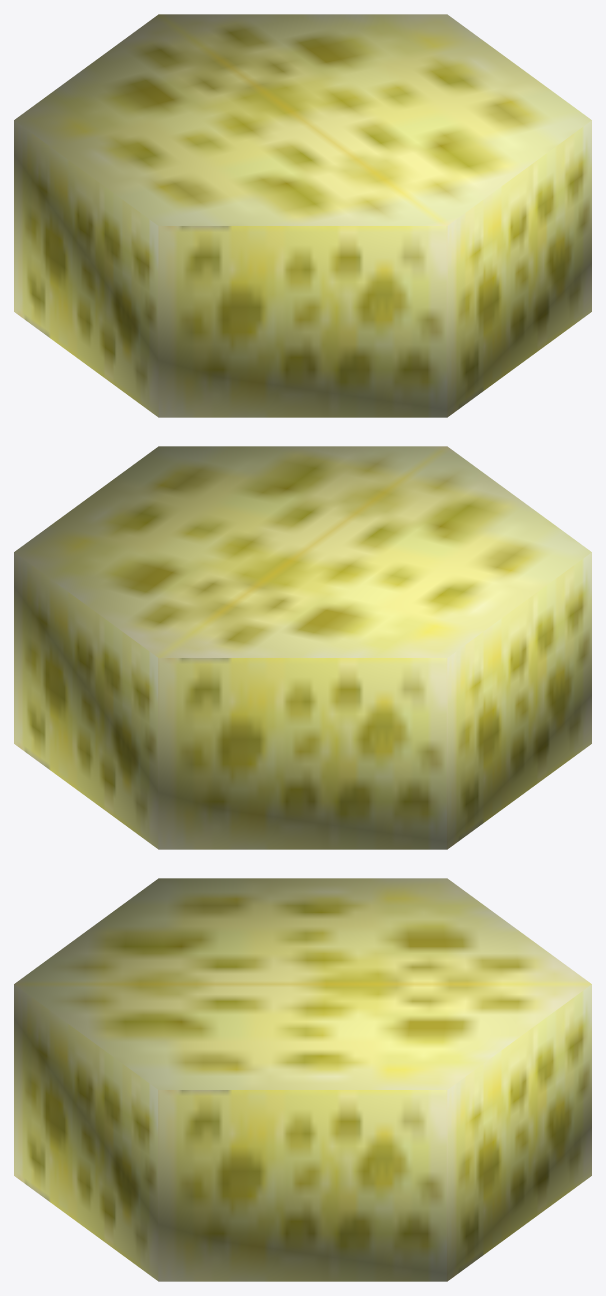
File: cheesewheelswiss01.obj
3 views of the same model, one above another, from view 1: azimuth 30°, elevation 25°; view 2: azimuth 150°, elevation 25°; view 3: azimuth 270°, elevation 25° (orthographic).
Parts seen in each view (by area): view 1: cheesewheelswiss01; view 2: cheesewheelswiss01; view 3: cheesewheelswiss01.
Boxes of the visible parts, x1,y1,x2,y2 form: cheesewheelswiss01: [14, 14, 591, 417]; cheesewheelswiss01: [14, 446, 591, 849]; cheesewheelswiss01: [14, 878, 591, 1281].
Size of the model in its own units: 0.0778 by 0.0328 by 0.0898.
Materials: 1 (1 with a texture image).
